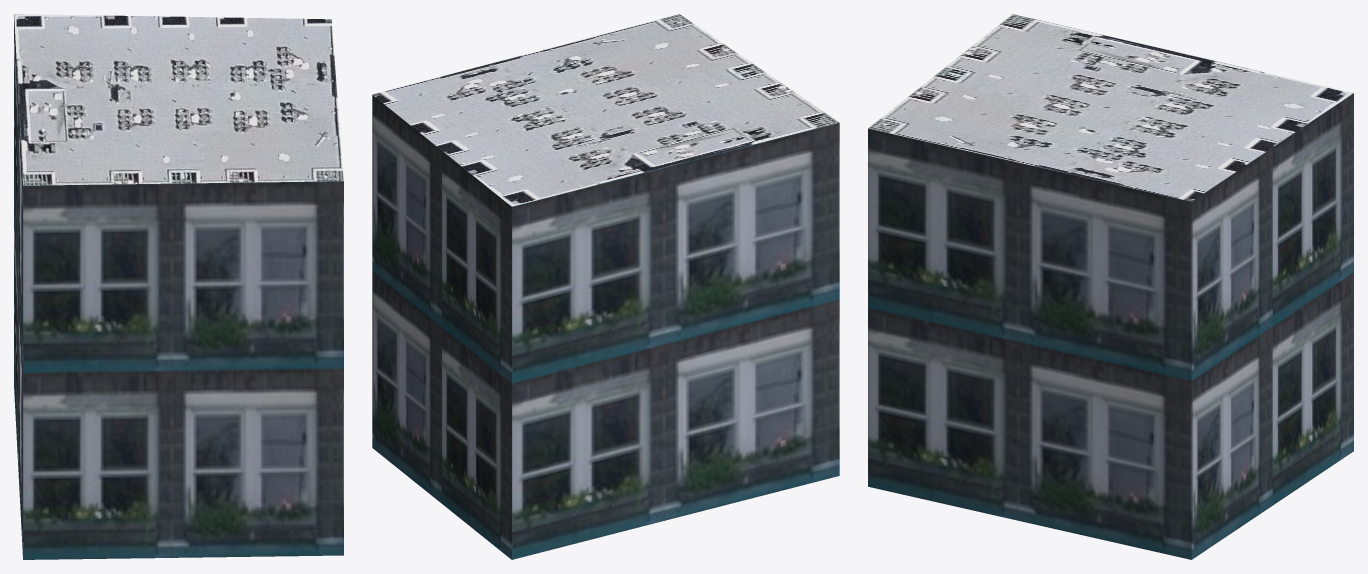
The model's file is ResTex__3162.fbx.
The picture shows the model from 3 angles, left to right: view 1: azimuth 30°, elevation 25°; view 2: azimuth 150°, elevation 25°; view 3: azimuth 270°, elevation 25°; orthographic projection. The views are drawn at different scales.
Visible parts, largest first — view 1: CityEngineMaterial_11_m, CityEngineMaterial_8_m; view 2: CityEngineMaterial_11_m, CityEngineMaterial_8_m; view 3: CityEngineMaterial_11_m, CityEngineMaterial_8_m.
Boxes of the visible parts, x1,y1,x2,y2 form: CityEngineMaterial_11_m: [14, 15, 343, 559]; CityEngineMaterial_8_m: [14, 14, 343, 185]; CityEngineMaterial_11_m: [372, 95, 839, 559]; CityEngineMaterial_8_m: [372, 14, 839, 206]; CityEngineMaterial_11_m: [868, 93, 1353, 559]; CityEngineMaterial_8_m: [868, 14, 1353, 201].
Bounding box in the file's own units: 6.74 × 6 × 7.38.
Materials: 2 (2 with a texture image).
